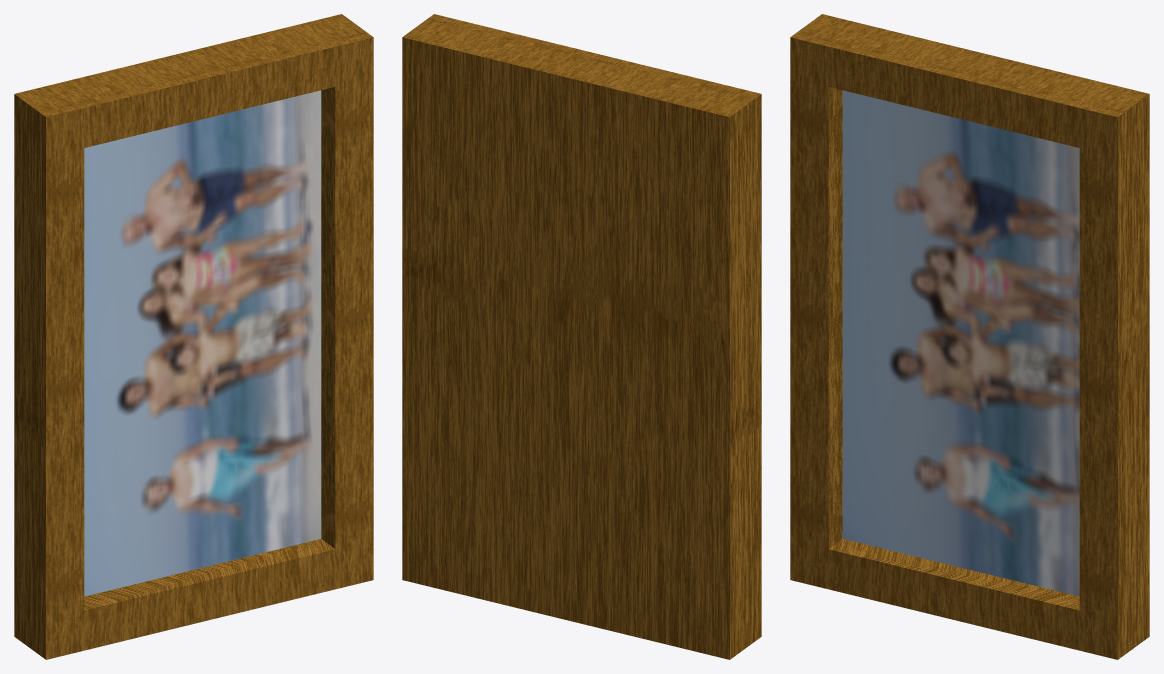
File: PictureHanging5.FBX
The picture shows the model from 3 angles, left to right: view 1: azimuth 30°, elevation 25°; view 2: azimuth 150°, elevation 25°; view 3: azimuth 330°, elevation 25°; orthographic projection.
Parts seen in each view (by area): view 1: Box001; view 2: Box001; view 3: Box001.
Boxes of the visible parts, box(x1,y1,x2,y2) form: Box001: box(14, 14, 373, 659); Box001: box(402, 14, 761, 659); Box001: box(790, 14, 1149, 659).
Size of the model in its own units: 31.59 by 50 by 5.33.
2 materials, 2 textured.
